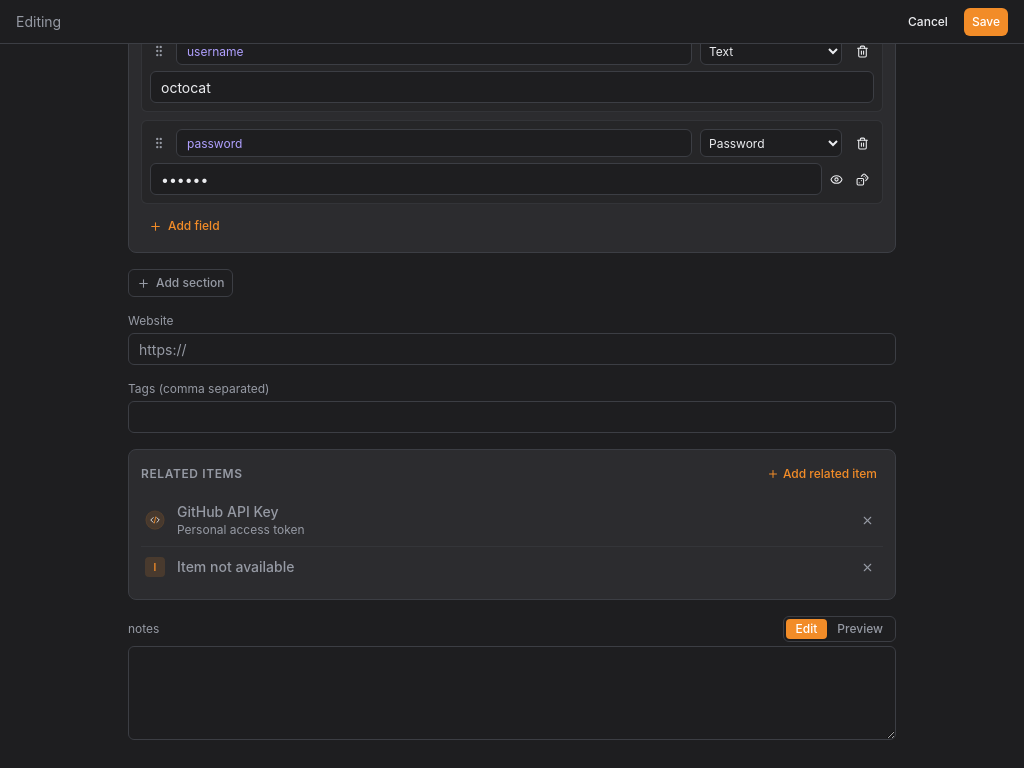
Test: Related items: ItemEditor and Picker › removes related item when clicking remove button in editor
The width and height of the screenshot is (1024, 768).
(page scrolled)
Expected: the element with test id "editor-related-item-item-b" is shown, [141,494,883,546]
Click the button with test id "remove-related-item-b": (867, 520) [855,508,879,532]
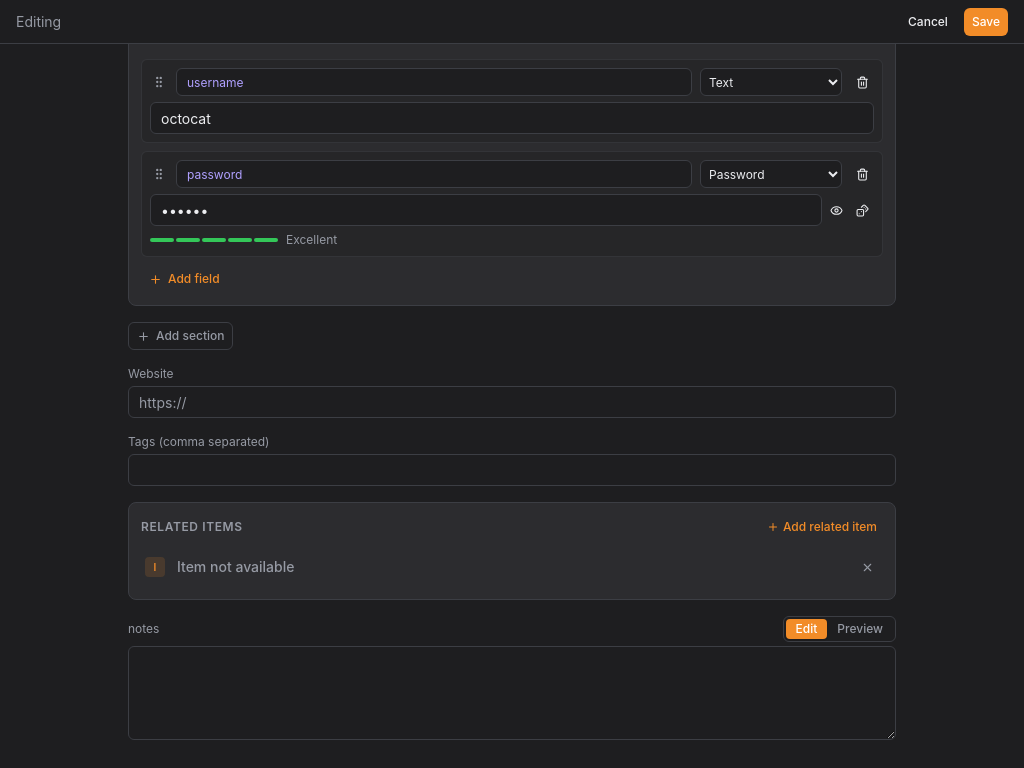
Now the element with test id "editor-related-item-item-b" is gone
